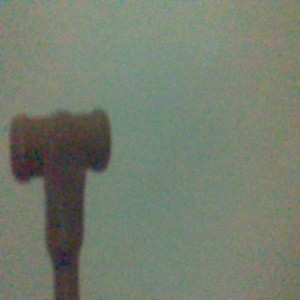palu: (10, 105, 113, 300)
